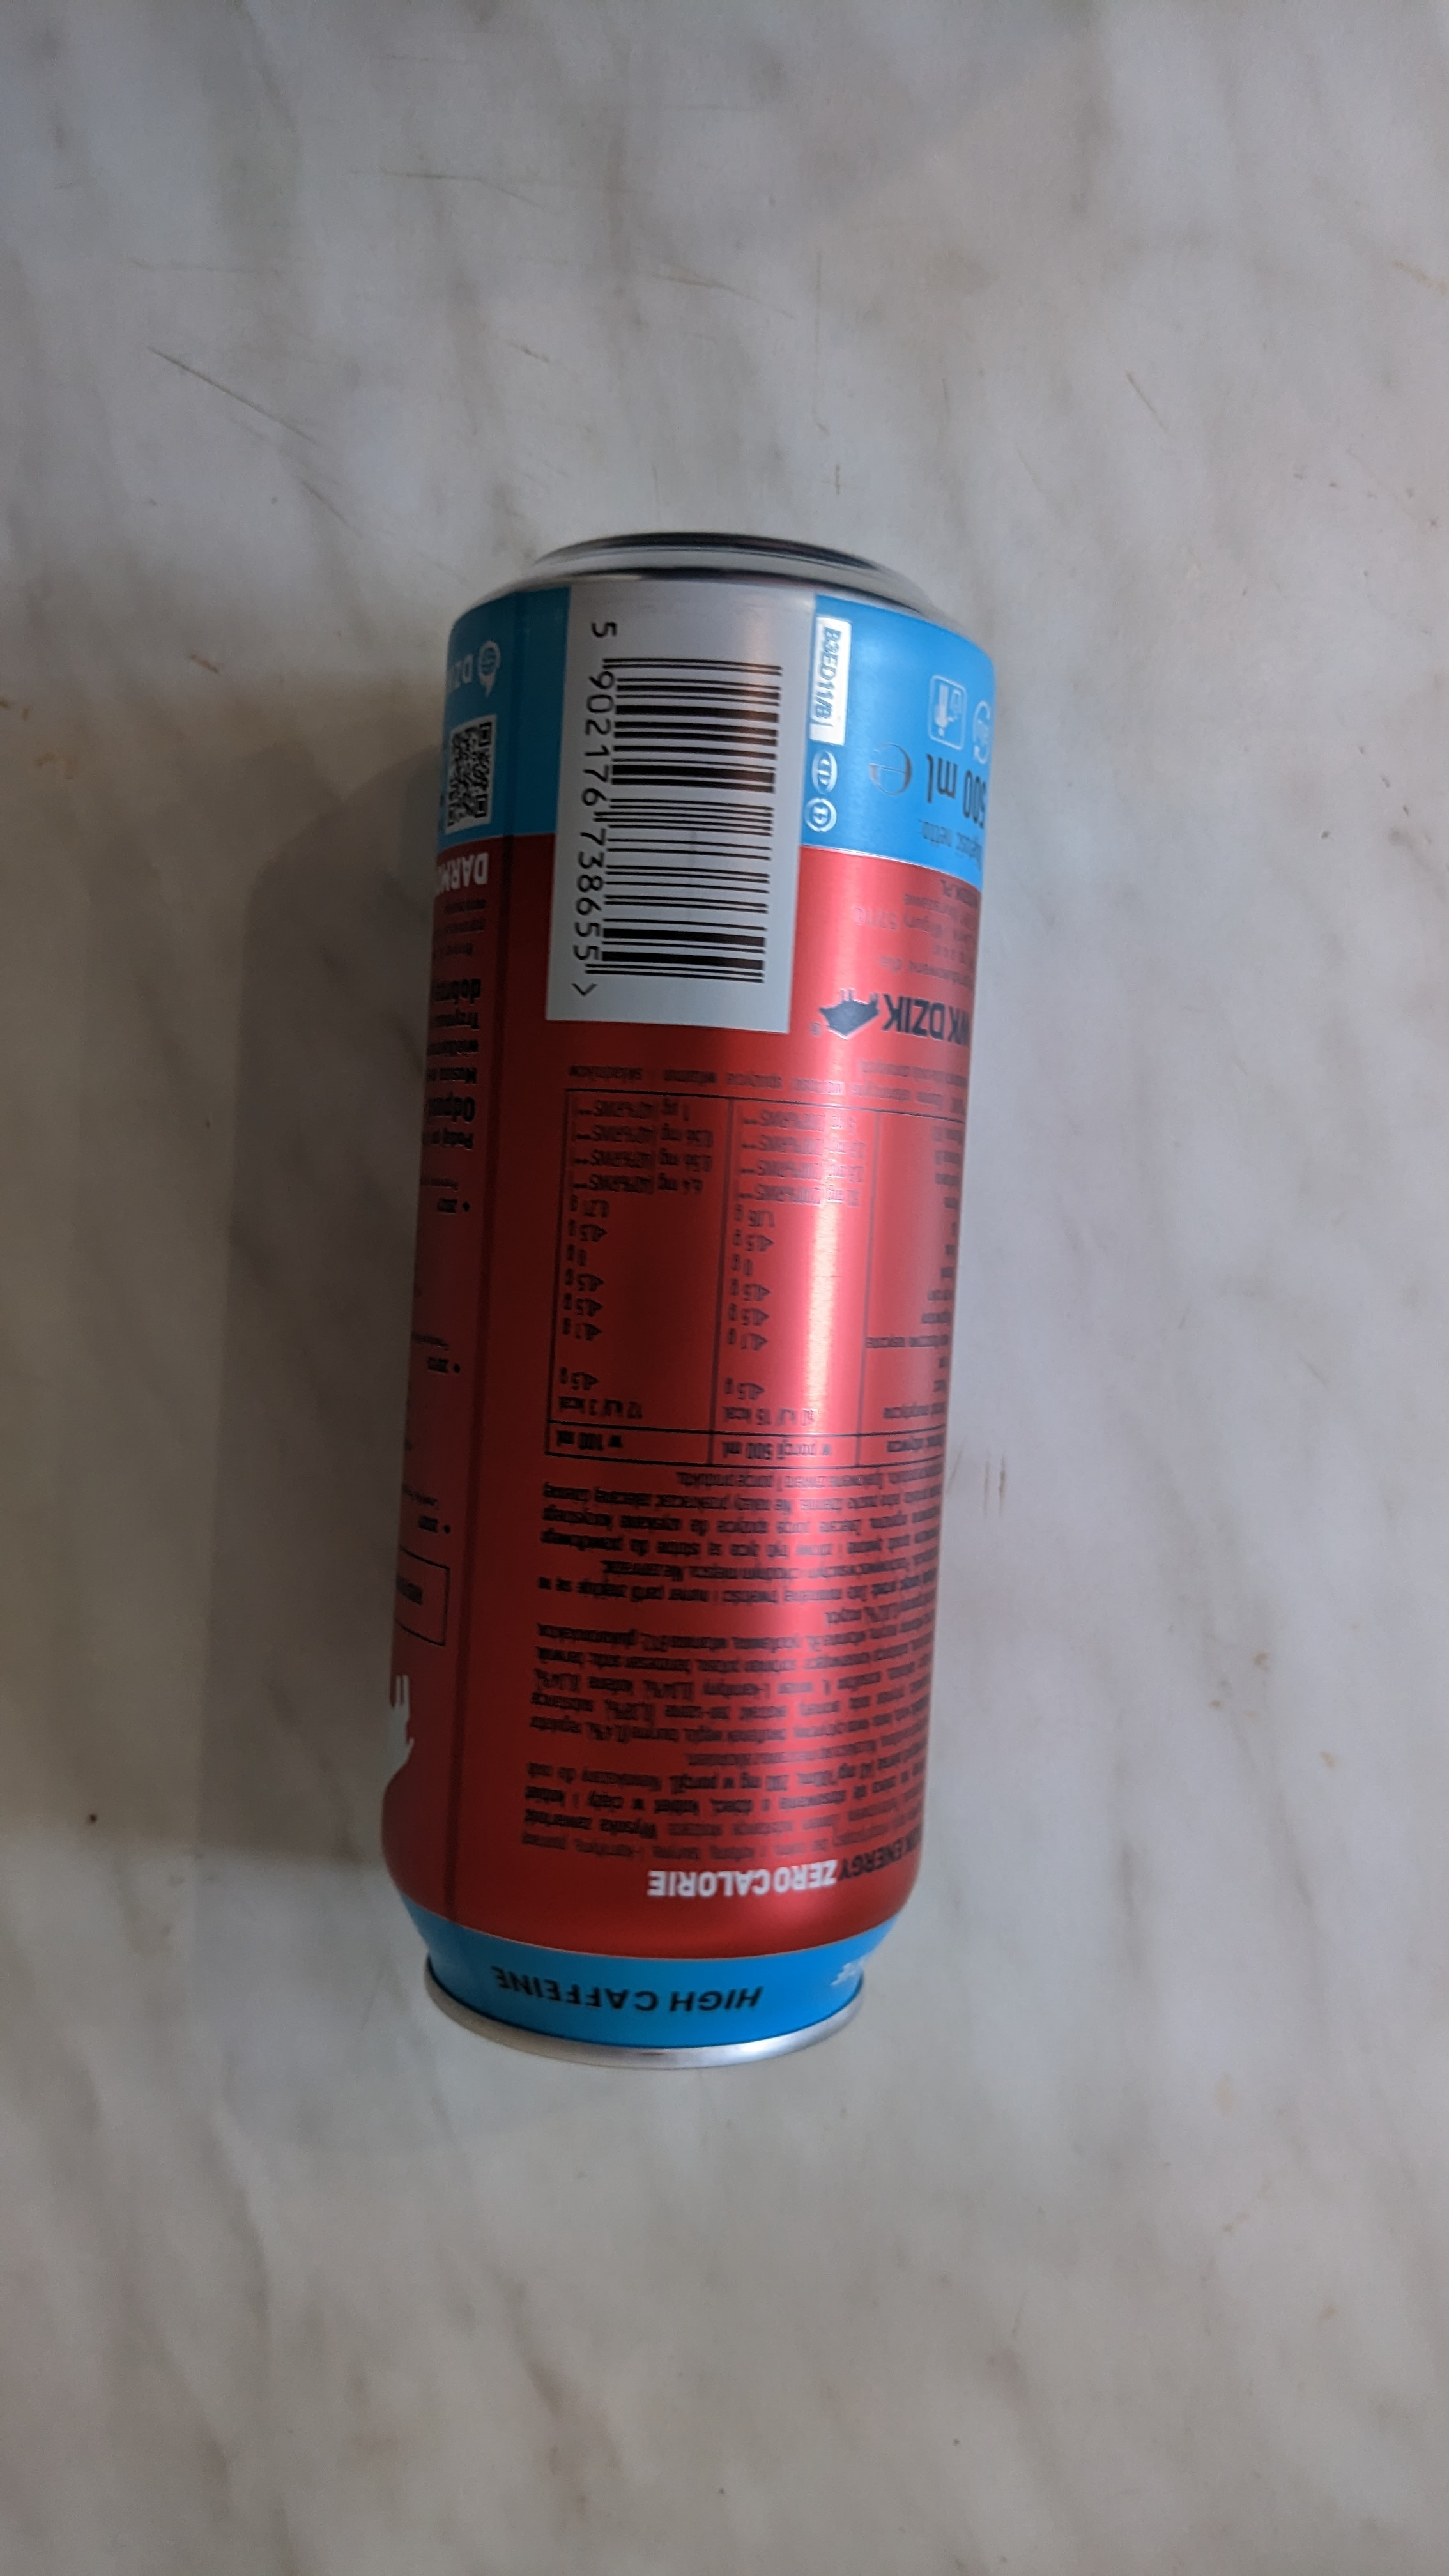dzik: (414, 524, 925, 2112)
